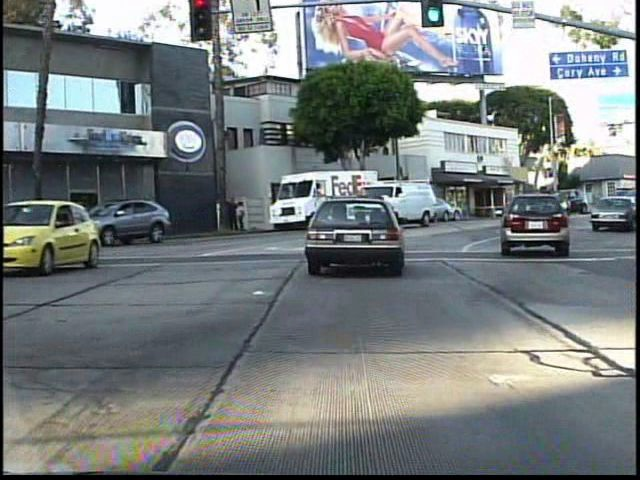person: (226, 194, 238, 234), (235, 200, 249, 234)
